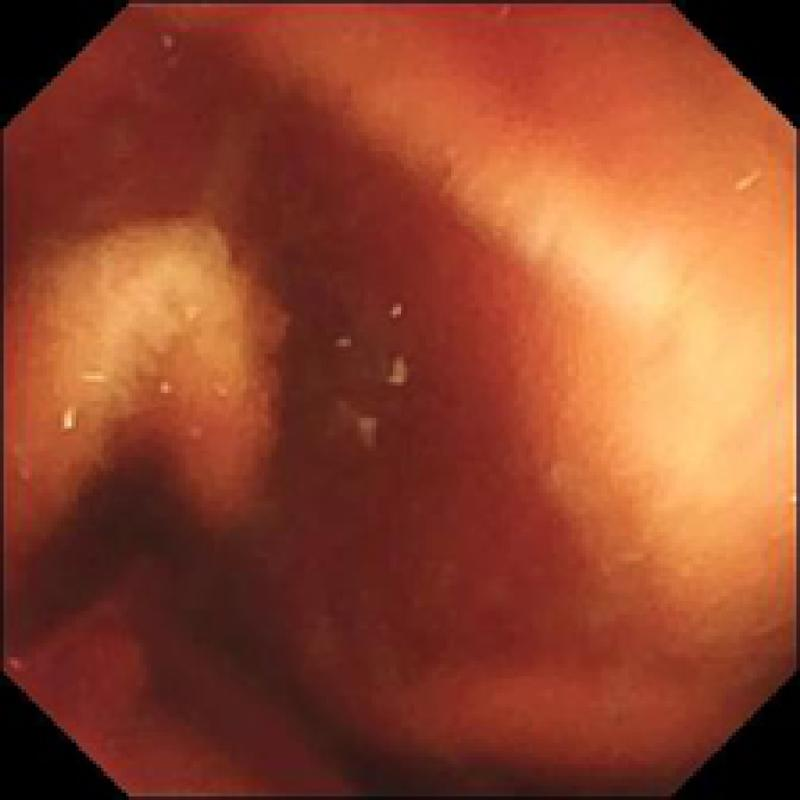bleeding: (0, 28, 725, 800)
